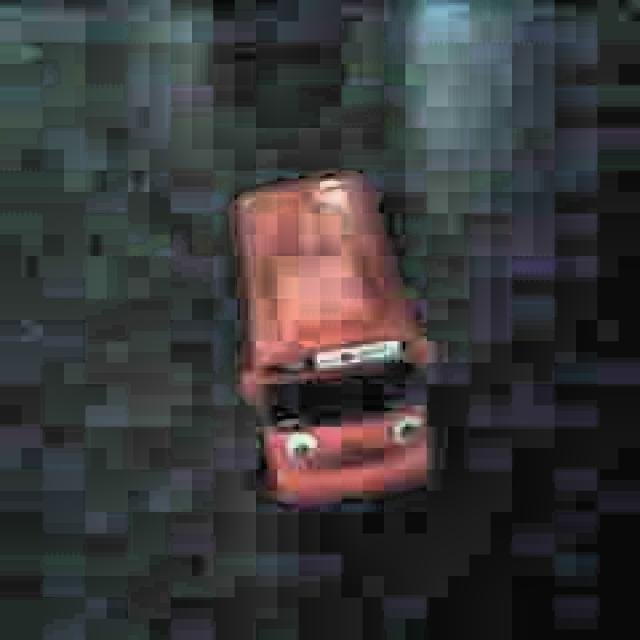bus: (228, 168, 437, 508)
